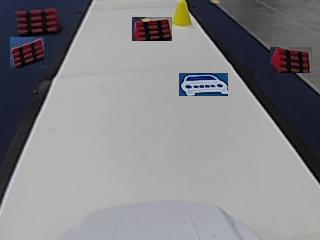cone: (172, 3, 191, 25)
